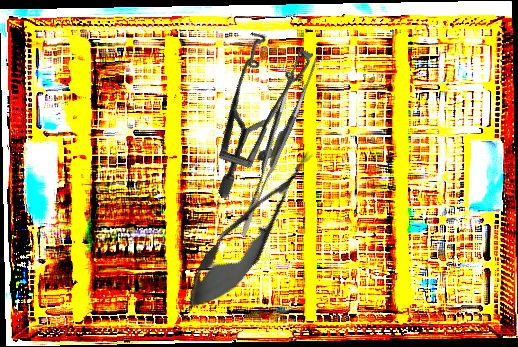Micro Scissor: (169, 137, 331, 327)
Speculum: (154, 11, 353, 201)
Tissue Forceps: (210, 48, 336, 237)
